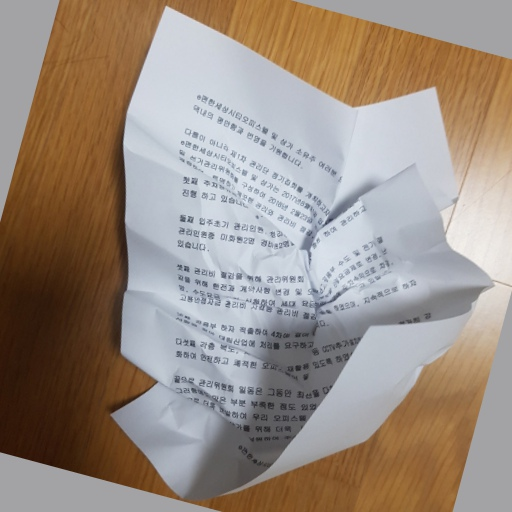Paper_3: (112, 5, 482, 508)
